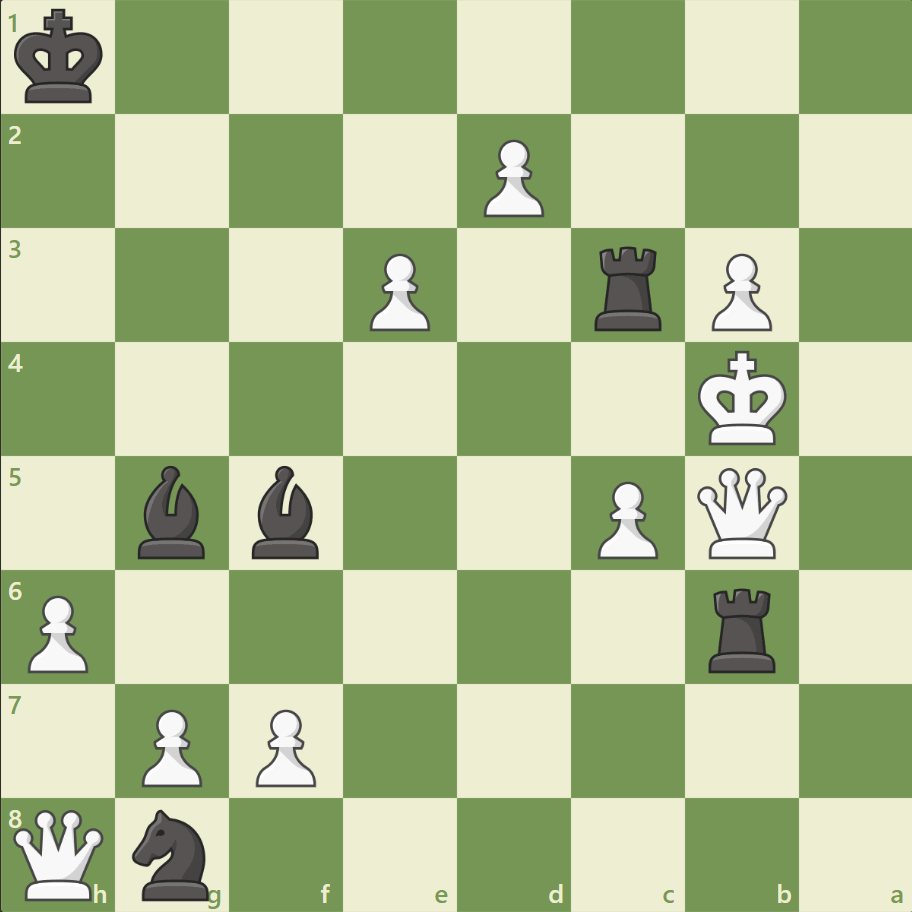K: (692, 344, 792, 452)
P: (247, 700, 322, 791), (133, 700, 208, 791), (20, 586, 95, 677), (701, 246, 776, 337), (474, 132, 549, 223), (588, 473, 662, 564), (361, 246, 435, 337)
Q: (10, 804, 109, 903), (691, 463, 790, 562)
b: (244, 460, 328, 563), (131, 460, 215, 563)
k: (11, 4, 111, 112)
n: (124, 802, 222, 904)
r: (700, 579, 783, 676), (587, 239, 670, 336)
